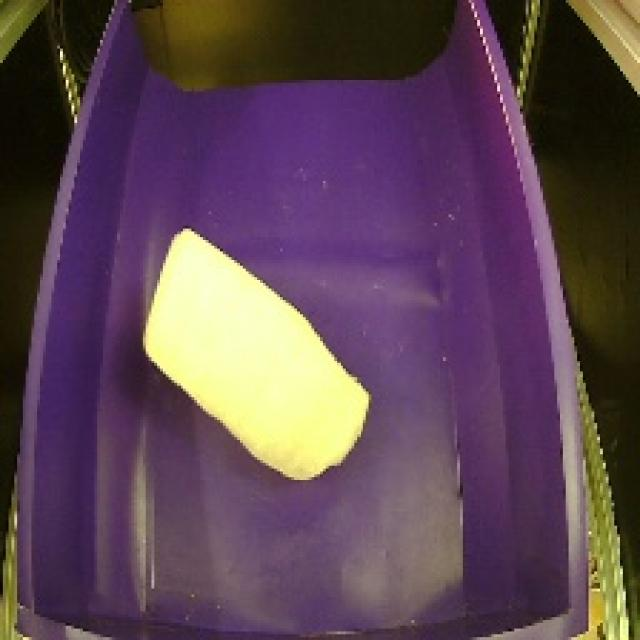white_radish: (121, 214, 396, 494)
